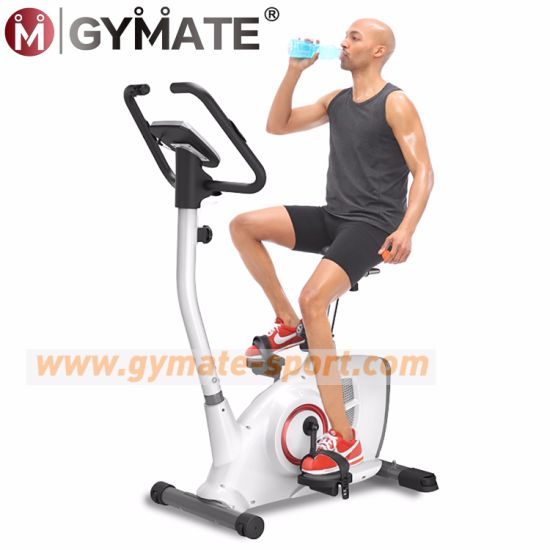gym_bike: (96, 71, 457, 532)
